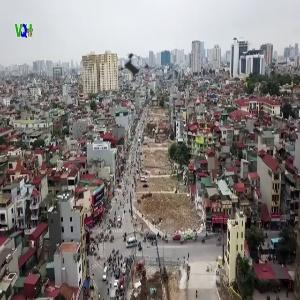drone: (99, 36, 169, 106)
